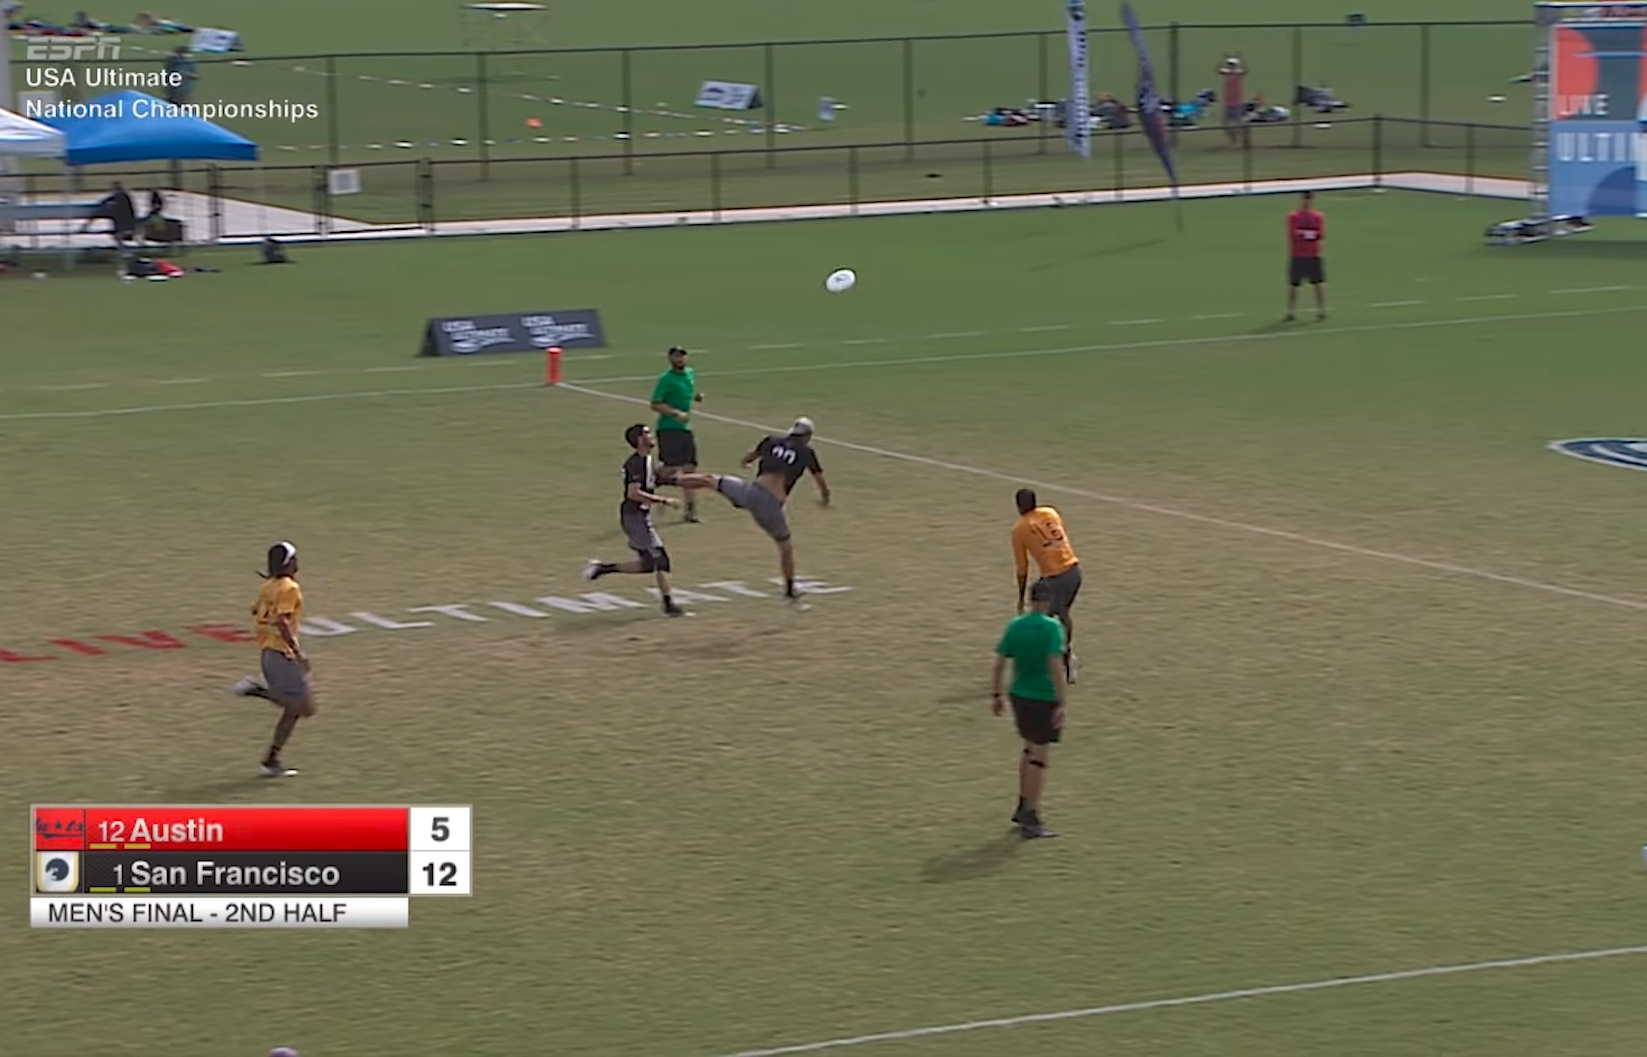frisbee: (825, 268, 857, 293)
